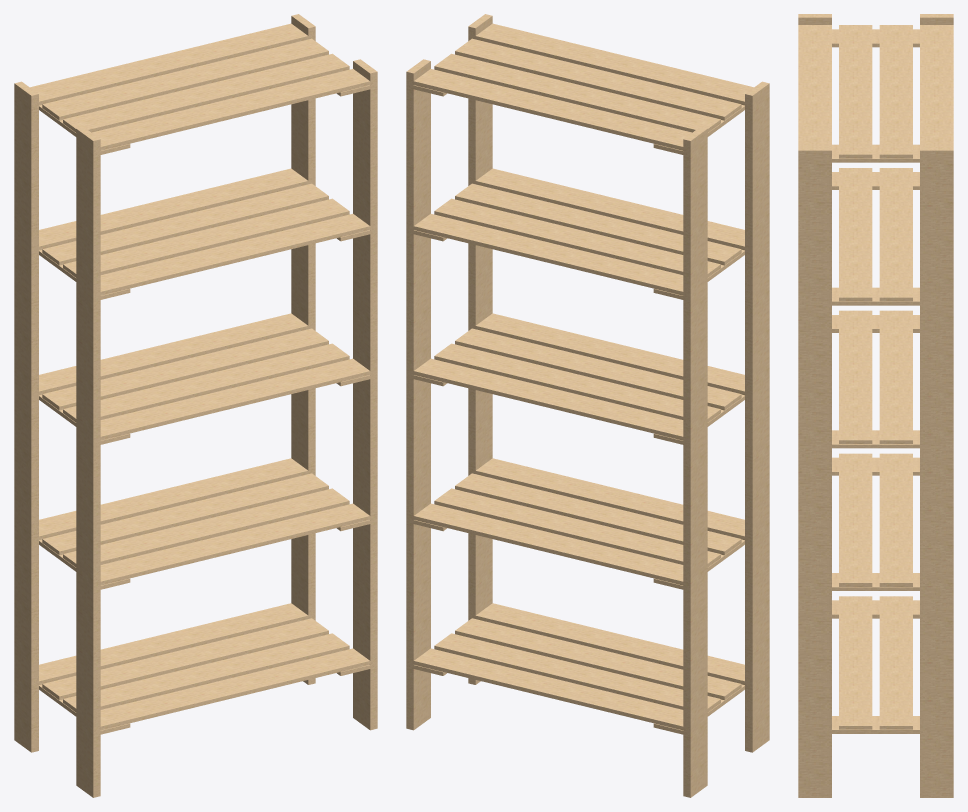
File: shelves_storage_wood2.glb
The picture shows the model from 3 angles, left to right: view 1: azimuth 30°, elevation 25°; view 2: azimuth 150°, elevation 25°; view 3: azimuth 270°, elevation 25°; orthographic projection.
Parts seen in each view (by area): view 1: shelves_storage_wood2; view 2: shelves_storage_wood2; view 3: shelves_storage_wood2.
Part boxes in pixels (x1,y1,x2,y2): shelves_storage_wood2: [14, 14, 377, 797]; shelves_storage_wood2: [406, 14, 769, 797]; shelves_storage_wood2: [798, 14, 953, 797].
Size of the model in its own units: 77 by 170 by 37.
1 material, 1 textured.
